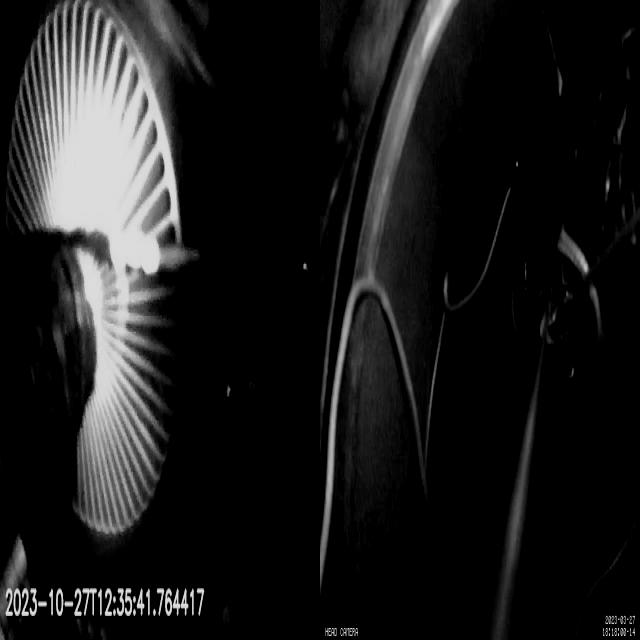white-dots: (108, 224, 161, 278)
